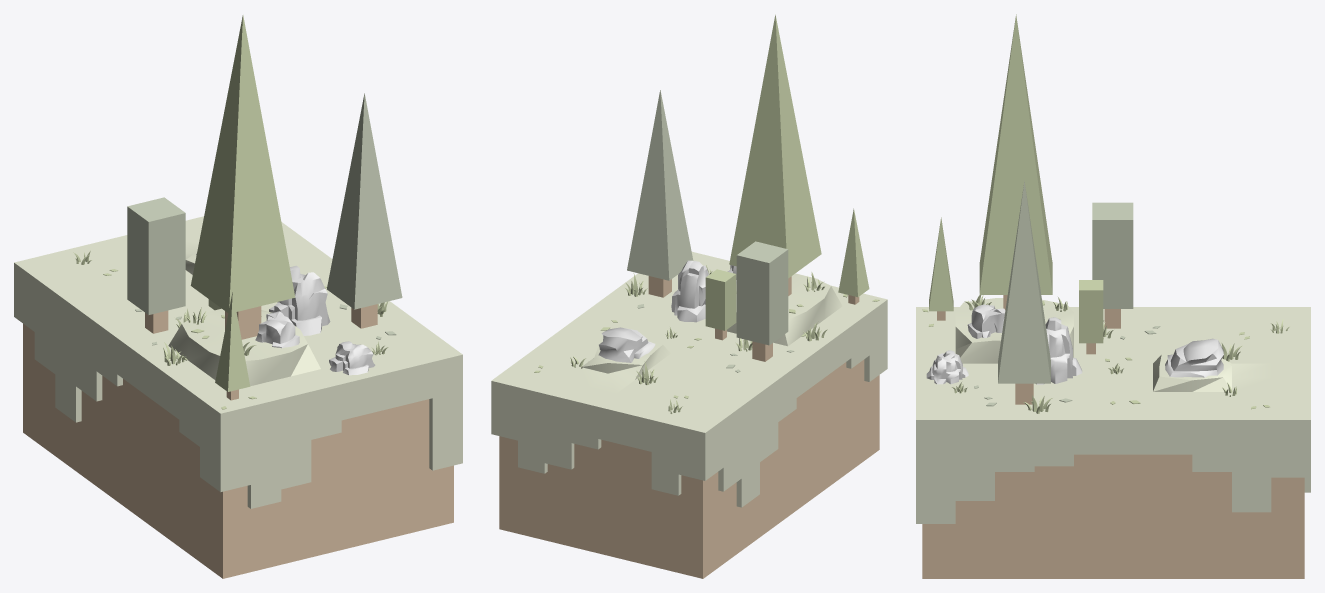
The model's file is plattform_start_3.dae.
3 views of the same model, side by side, from view 1: azimuth 30°, elevation 25°; view 2: azimuth 150°, elevation 25°; view 3: azimuth 270°, elevation 25° (orthographic). The views are drawn at different scales.
Visible parts, largest first — view 1: top, down, treetop.004, treetop.003, treetop.002, rock1.001, treetop.001, rock1, rock4, trunk.004; view 2: top, down, treetop.004, treetop.003, treetop.002, treetop, rock1.001, rock3, treetop.001; view 3: top, down, treetop.004, treetop.003, treetop.002, rock3, treetop, rock1.001, treetop.001, rock4, rock1.
Part boxes in pixels (box(x1,y1,x2,y2)): top: box(14, 216, 462, 508); down: box(23, 324, 453, 578); treetop.004: box(190, 15, 295, 312); treetop.003: box(327, 93, 402, 309); treetop.002: box(127, 197, 185, 314); rock1.001: box(269, 265, 330, 335); treetop.001: box(215, 292, 250, 391); rock1: box(329, 341, 375, 375); rock4: box(255, 311, 299, 348); trunk.004: box(225, 306, 261, 339); top: box(491, 251, 887, 507); down: box(499, 359, 879, 578); treetop.004: box(729, 14, 821, 278); treetop.003: box(627, 90, 693, 280); treetop.002: box(736, 241, 788, 345); treetop: box(705, 269, 736, 330); rock1.001: box(671, 260, 708, 322); rock3: box(598, 327, 655, 362); treetop.001: box(838, 208, 869, 297); top: box(916, 298, 1310, 523); down: box(922, 454, 1304, 578); treetop.004: box(979, 14, 1052, 294); treetop.003: box(998, 180, 1050, 383); treetop.002: box(1092, 202, 1133, 308); rock3: box(1165, 338, 1223, 377); treetop: box(1079, 280, 1103, 343); rock1.001: box(1036, 317, 1082, 384); treetop.001: box(929, 217, 953, 311); rock4: box(967, 304, 1005, 338); rock1: box(926, 350, 968, 384).
Size of the model in its own units: 210 by 310 by 424.
